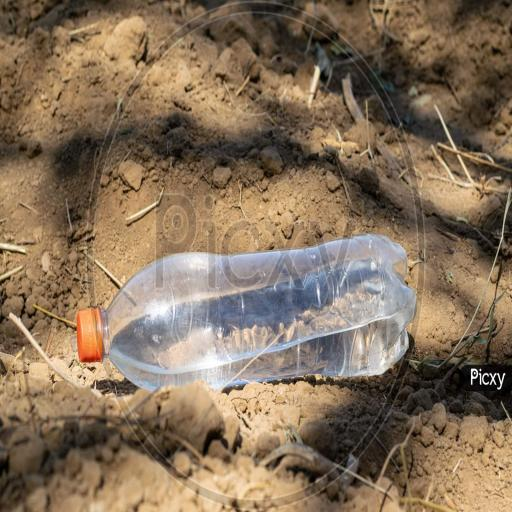bottle: (71, 228, 422, 397)
